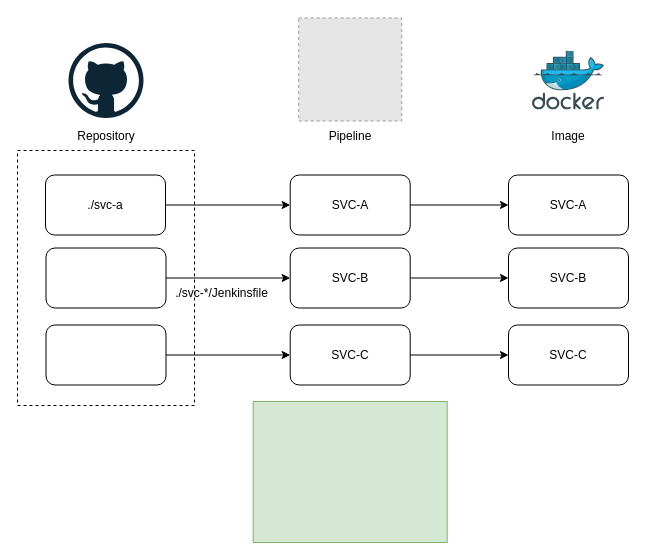
Image size: 646x560. Some labels were removed from this diagram. Grey dashed boxes stand in for pictures. The box of each missing label's shape, as (x1, y1, x2, y2) in pixels:
./svc-b: (45, 247, 166, 308)
./svc-c: (45, 324, 166, 385)
pipeline { stages { stage('Build') { when { changeset "**/svc-*/*.*" }: (252, 400, 447, 542)
